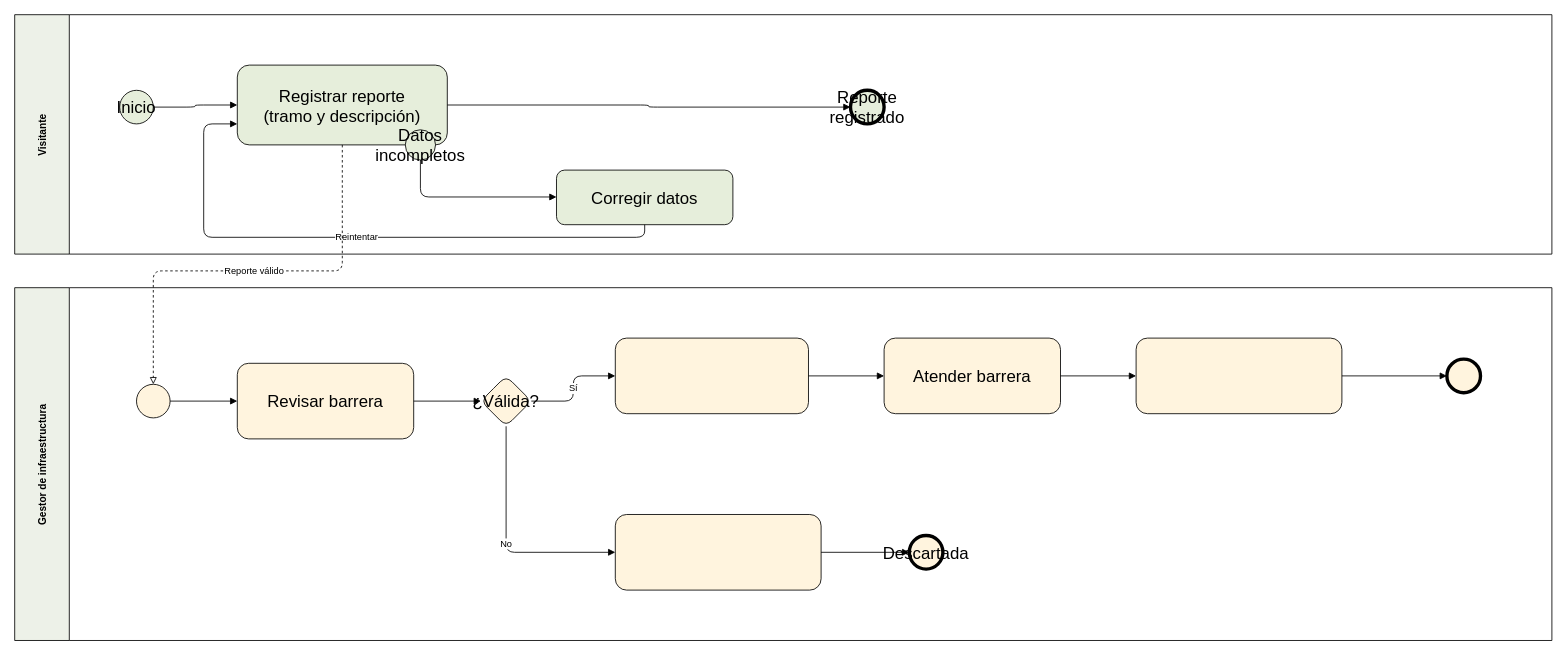
Some shapes in this 1567 by 655 pixel diagram are drawn without their labels. Each missing label, with the centre of its shape:
Atendida: [1463,375]
Marcar RECHAZADA sin cambiar tramo: [717,552]
Marcar RESUELTA evaluar reapertura: [1238,375]
Reporte recibido: [153,400]
Validar incidencia y cerrar tramo: [711,375]
